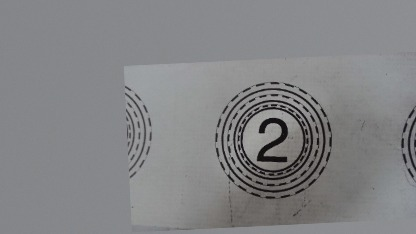2r: (210, 77, 335, 203)
